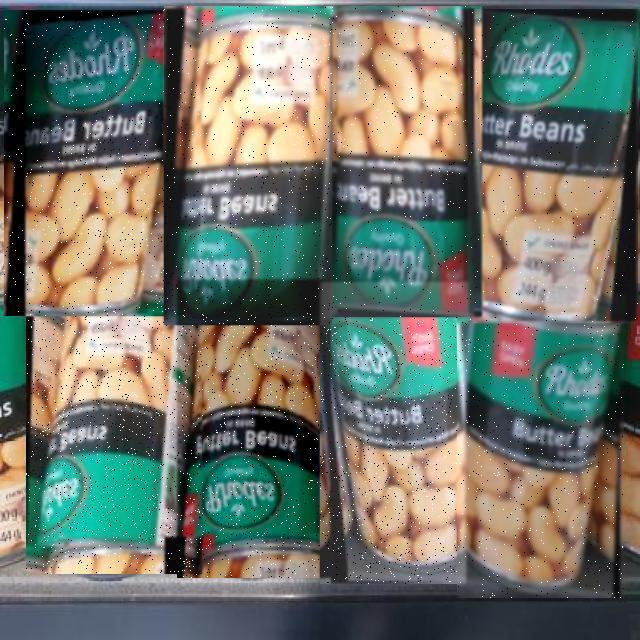Beans: (5, 10, 187, 316), (165, 6, 333, 325), (468, 9, 638, 323), (458, 293, 626, 599), (26, 286, 202, 574), (323, 6, 482, 317), (177, 279, 331, 578), (320, 282, 469, 584)
